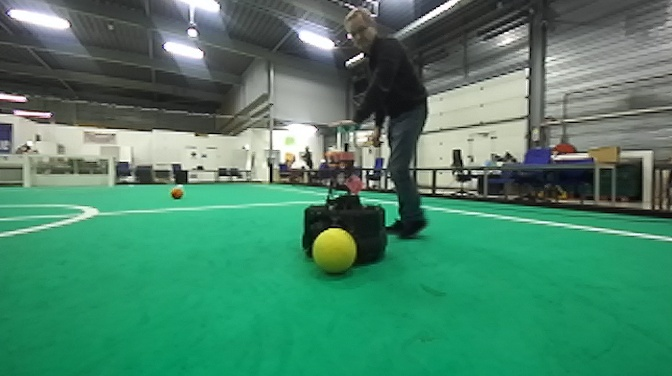ball: (308, 226, 360, 279), (168, 183, 186, 202)
goal: (22, 155, 116, 189)
goalpost: (22, 154, 31, 189), (107, 155, 115, 189)
human: (330, 4, 432, 244)
robot: (298, 121, 392, 269)
